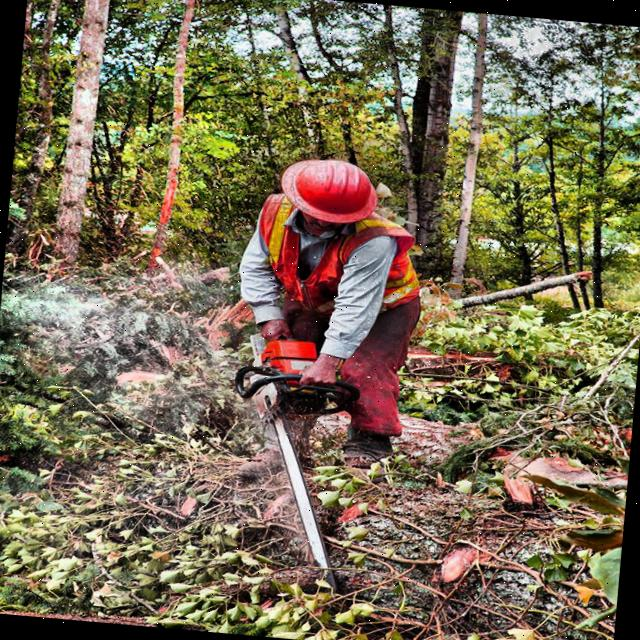helmet: (269, 149, 391, 248)
